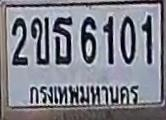0: (120, 15, 135, 63)
1: (102, 15, 113, 64), (141, 15, 152, 64)
2: (12, 17, 28, 65)
6: (80, 16, 96, 63)
A02: (30, 16, 50, 64)
A24: (53, 16, 72, 64)
BKK: (25, 80, 141, 107)
